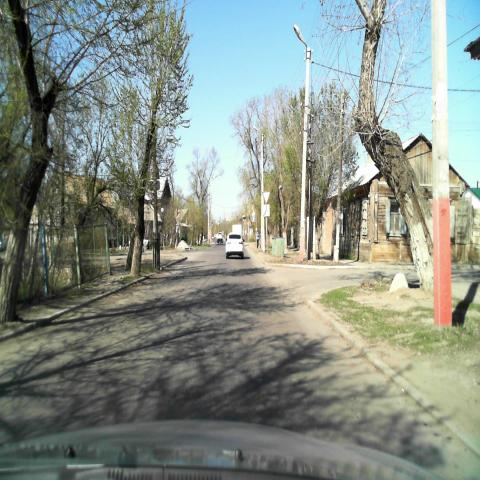2_4: (262, 191, 270, 203)
8_13: (262, 204, 270, 218)
